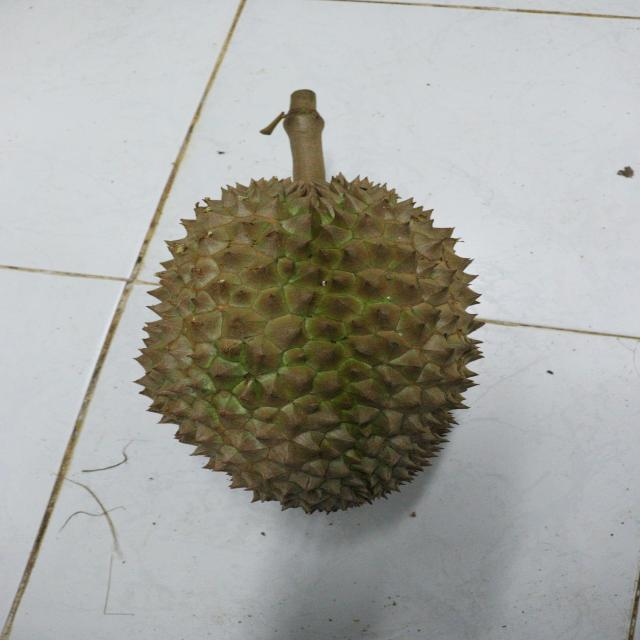mature: (136, 170, 490, 512)
